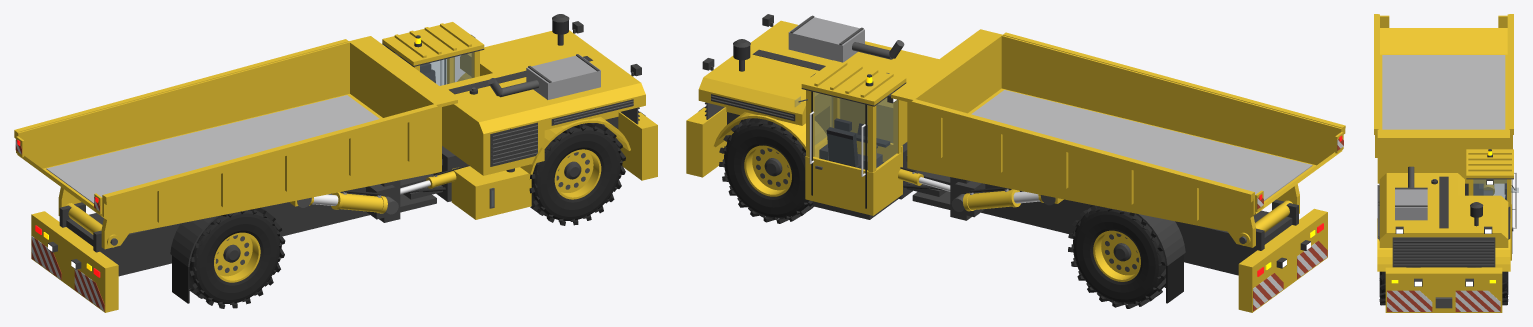
The model's file is underground_haul_truck.glb.
3 views of the same model, side by side, from view 1: azimuth 30°, elevation 25°; view 2: azimuth 150°, elevation 25°; view 3: azimuth 270°, elevation 25° (orthographic). The views are drawn at different scales.
Parts seen in each view (by area): view 1: dump_body_tilt, front_frame, hitch_rotate, wheel_front_right_spin, wheel_rear_right_spin, cab, hoist_cylinder_right_rotate; view 2: dump_body_tilt, front_frame, hitch_rotate, cab, wheel_rear_left_spin, wheel_front_left_spin, hoist_cylinder_left_rotate; view 3: dump_body_tilt, front_frame, cab, wheel_front_right_spin, wheel_front_left_spin, hitch_rotate, hoist_cylinder_left_rotate.
Part boxes in pixels (box(x1,y1,x2,y2)): dump_body_tilt: box(14, 36, 457, 249); front_frame: box(403, 14, 657, 219); hitch_rotate: box(31, 174, 436, 312); wheel_front_right_spin: box(529, 123, 625, 225); wheel_rear_right_spin: box(189, 207, 285, 308); cab: box(382, 22, 484, 85); hoist_cylinder_right_rotate: box(331, 190, 398, 214); dump_body_tilt: box(891, 29, 1345, 247); front_frame: box(686, 14, 946, 219); hitch_rotate: box(912, 170, 1327, 312); cab: box(795, 60, 906, 215); wheel_rear_left_spin: box(1068, 205, 1165, 308); wheel_front_left_spin: box(719, 118, 813, 223); hoist_cylinder_left_rotate: box(951, 187, 1020, 211); dump_body_tilt: box(1374, 14, 1513, 183); front_frame: box(1377, 166, 1510, 312); cab: box(1466, 149, 1518, 260); wheel_front_right_spin: box(1379, 271, 1385, 305); wheel_front_left_spin: box(1502, 271, 1508, 305); hitch_rotate: box(1465, 183, 1483, 195); hoist_cylinder_left_rotate: box(1484, 184, 1494, 195).
Size of the model in its own units: 10.69 by 2.82 by 3.11.
Materials: 18 (18 with a texture image).
